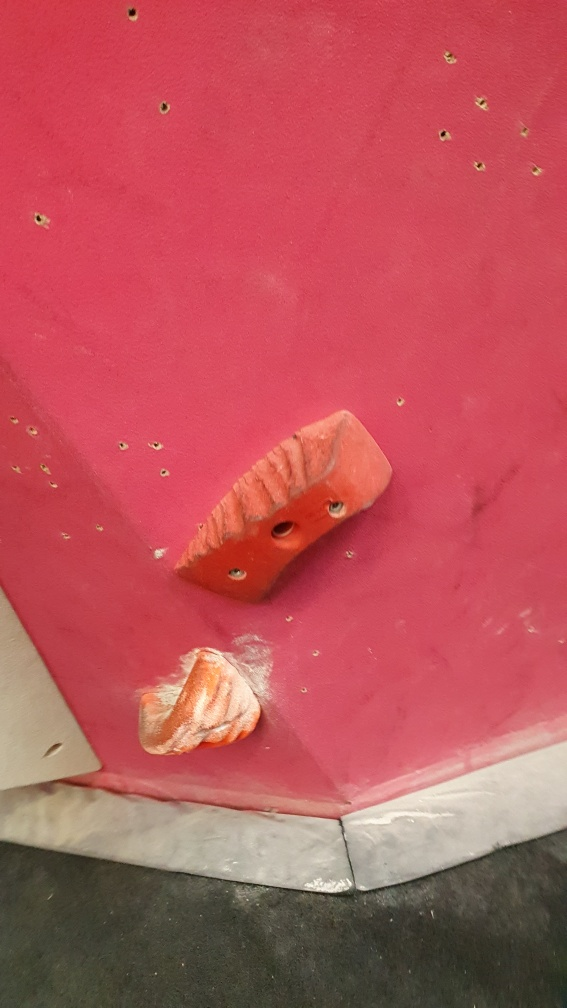Crimp: (170, 405, 395, 610)
Jug: (133, 645, 264, 762)
